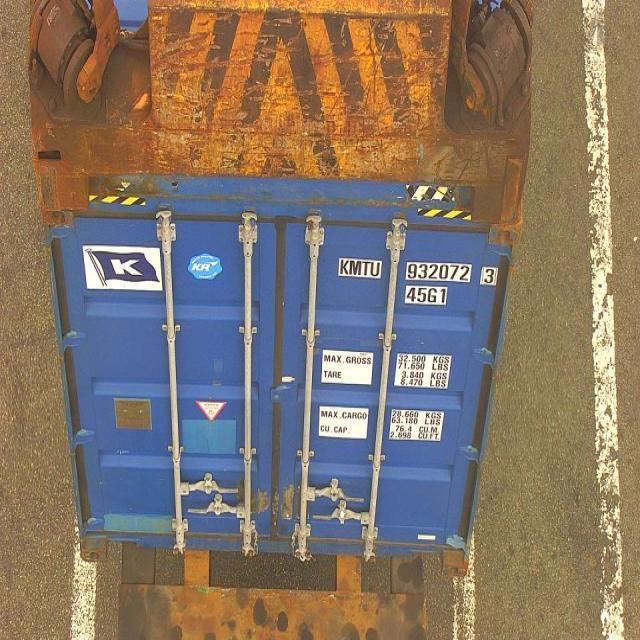ISO: (404, 286, 449, 308)
container_number: (342, 263, 491, 285)
